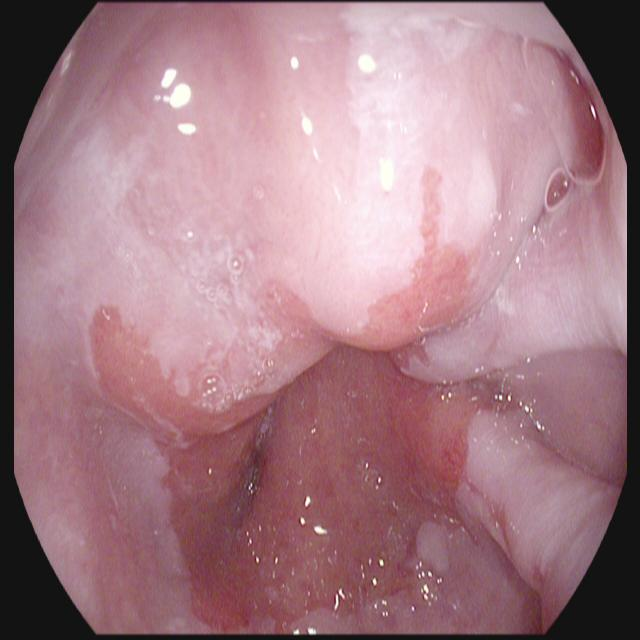esophagitis: (78, 155, 518, 636), (538, 21, 615, 213)
